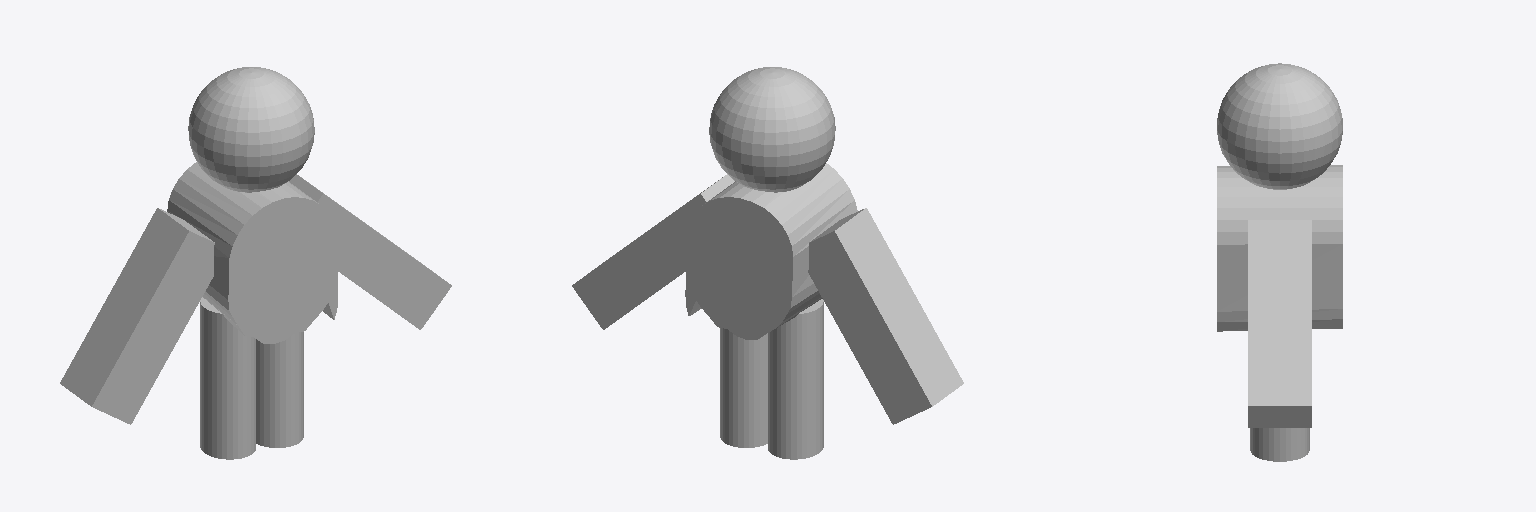
Rendered from Figurine25.obj.
The picture shows the model from 3 angles: view 1: azimuth 30°, elevation 25°; view 2: azimuth 150°, elevation 25°; view 3: azimuth 270°, elevation 25°; orthographic projection.
Visible parts, largest first — view 1: Cylinder; view 2: Cylinder; view 3: Cylinder.
Boxes of the visible parts, box(x1,y1,x2,y2) form: Cylinder: box(60, 67, 451, 459); Cylinder: box(572, 67, 963, 459); Cylinder: box(1217, 63, 1342, 461).
Bounding box in the file's own units: 6.57 × 6.42 × 2.